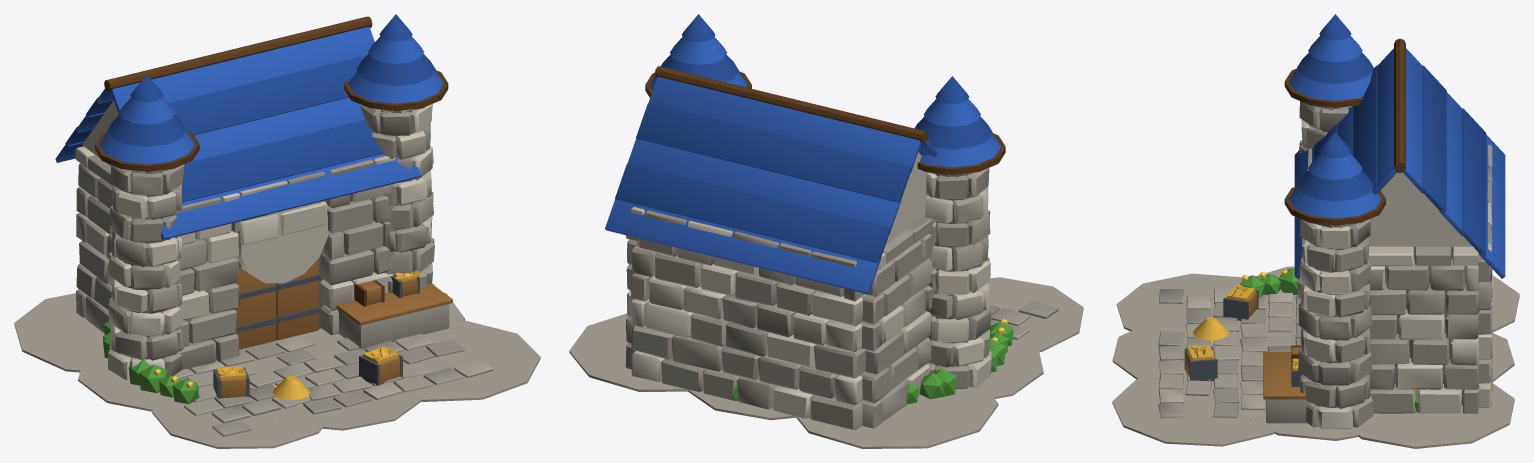
File: magazyn_poz17.glb
3 renders of one model, left to right at view 1: azimuth 30°, elevation 25°; view 2: azimuth 150°, elevation 25°; view 3: azimuth 270°, elevation 25°, orthographic. The views are drawn at different scales.
Visible parts, largest first — view 1: magazyn_poz17; view 2: magazyn_poz17; view 3: magazyn_poz17.
Boxes of the visible parts, bbox=[...] form: magazyn_poz17: bbox=[14, 14, 540, 448]; magazyn_poz17: bbox=[569, 14, 1083, 448]; magazyn_poz17: bbox=[1112, 14, 1519, 448].
Size of the model in its own units: 8.83 by 6.47 by 8.2.
